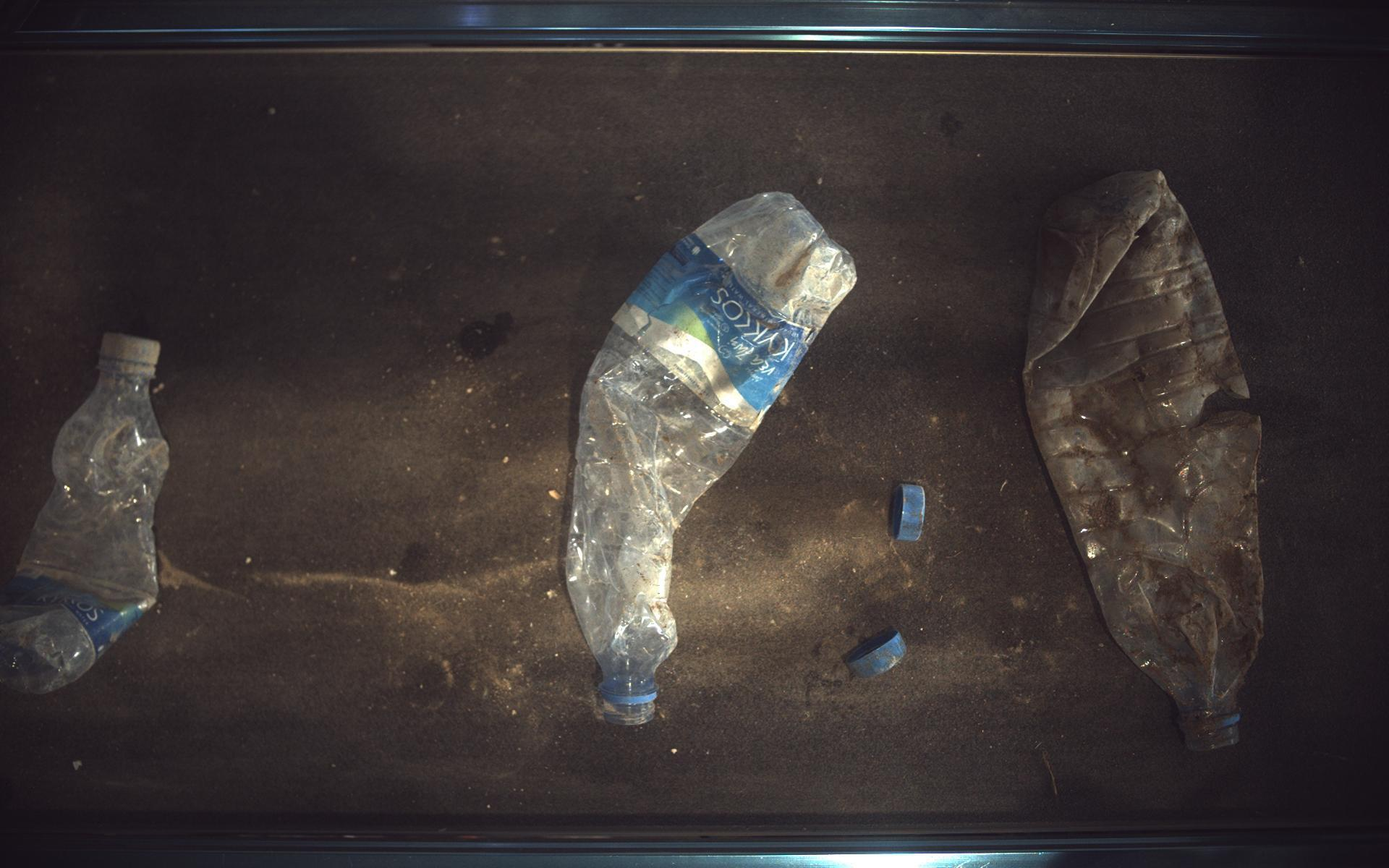general_w: (566, 192, 858, 726), (1025, 170, 1266, 750), (1, 333, 168, 694), (844, 629, 909, 679), (892, 483, 927, 542)
